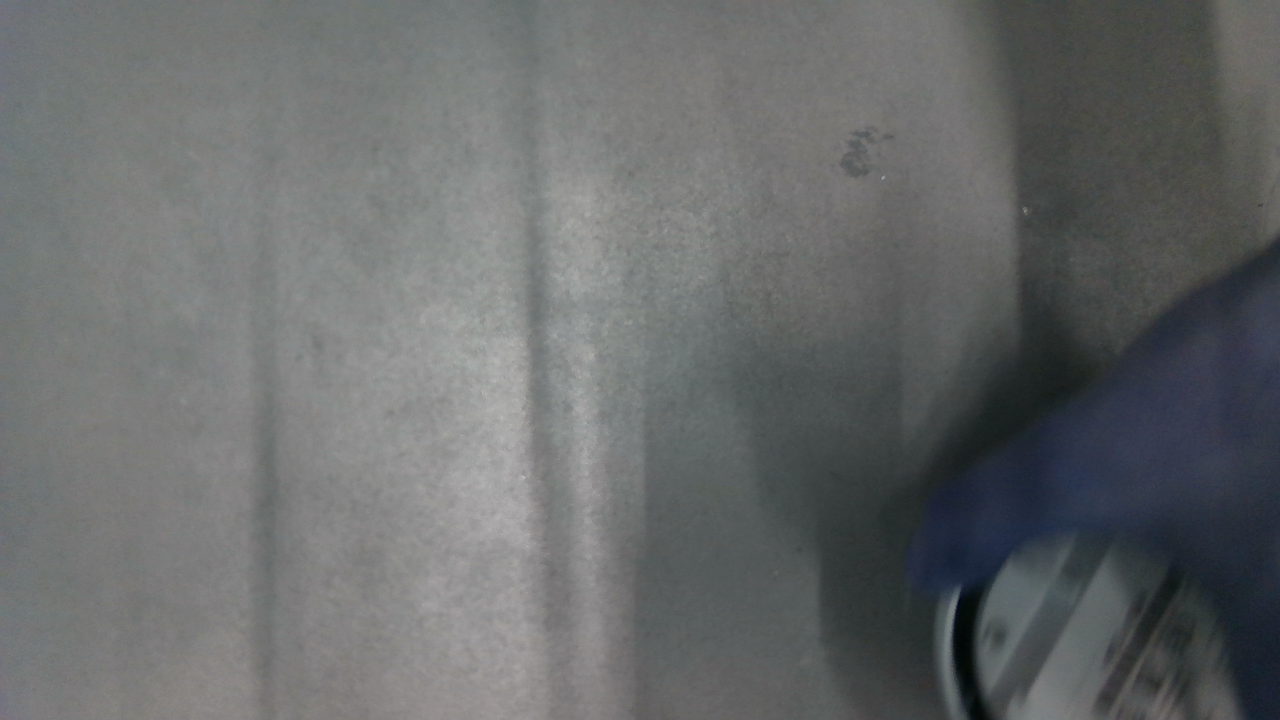HexScrew: (985, 626, 1010, 651)
